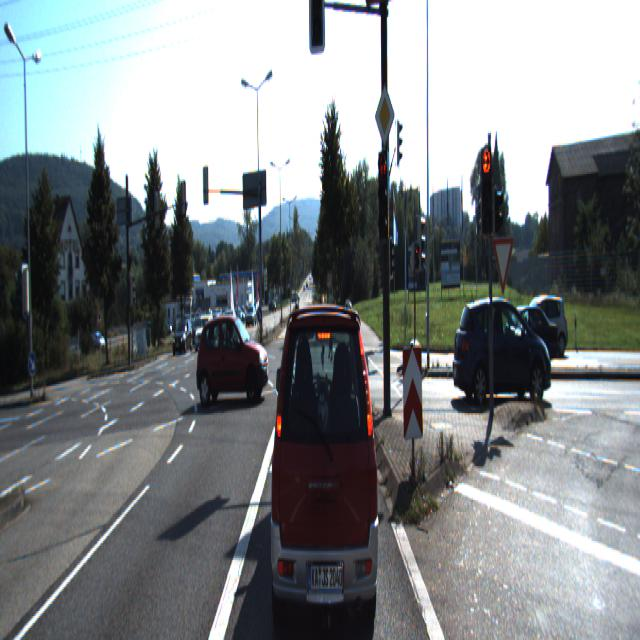Car: (267, 278, 381, 637), (452, 298, 554, 405), (197, 314, 269, 408), (488, 298, 560, 373), (513, 294, 569, 356), (172, 321, 193, 355), (195, 316, 215, 350), (219, 310, 239, 344)
